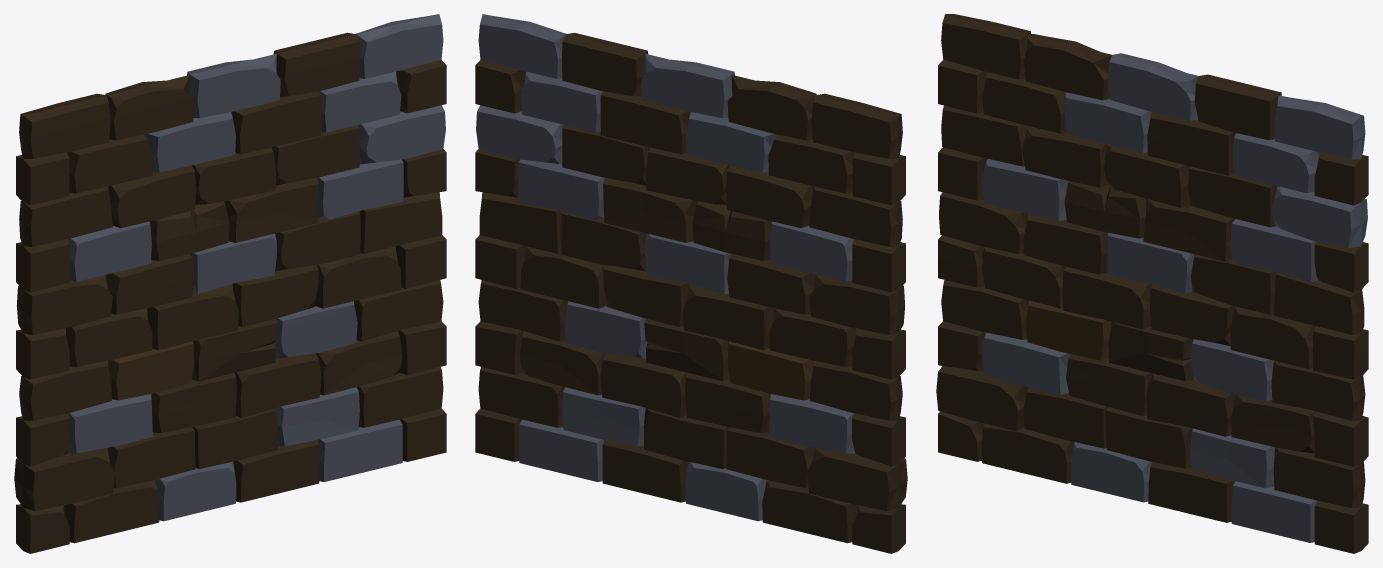
File: Wall_02.fbx
3 views of the same model, side by side, from view 1: azimuth 30°, elevation 25°; view 2: azimuth 150°, elevation 25°; view 3: azimuth 330°, elevation 25° (orthographic).
Visible parts, largest first — view 1: Wall_02; view 2: Wall_02; view 3: Wall_02.
Part boxes in pixels (box(x1,y1,x2,y2)): Wall_02: box(14, 14, 446, 553); Wall_02: box(475, 14, 907, 553); Wall_02: box(936, 14, 1368, 553).
Size of the model in its own units: 4 by 4 by 0.3136.
